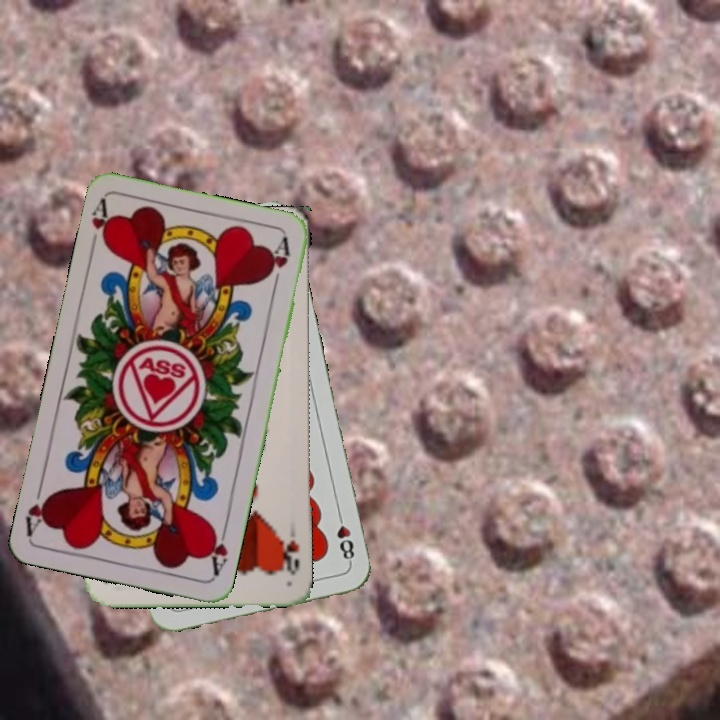H8: (332, 508, 357, 566)
HA: (85, 195, 116, 254), (203, 520, 231, 579)
HO: (277, 530, 302, 577)
